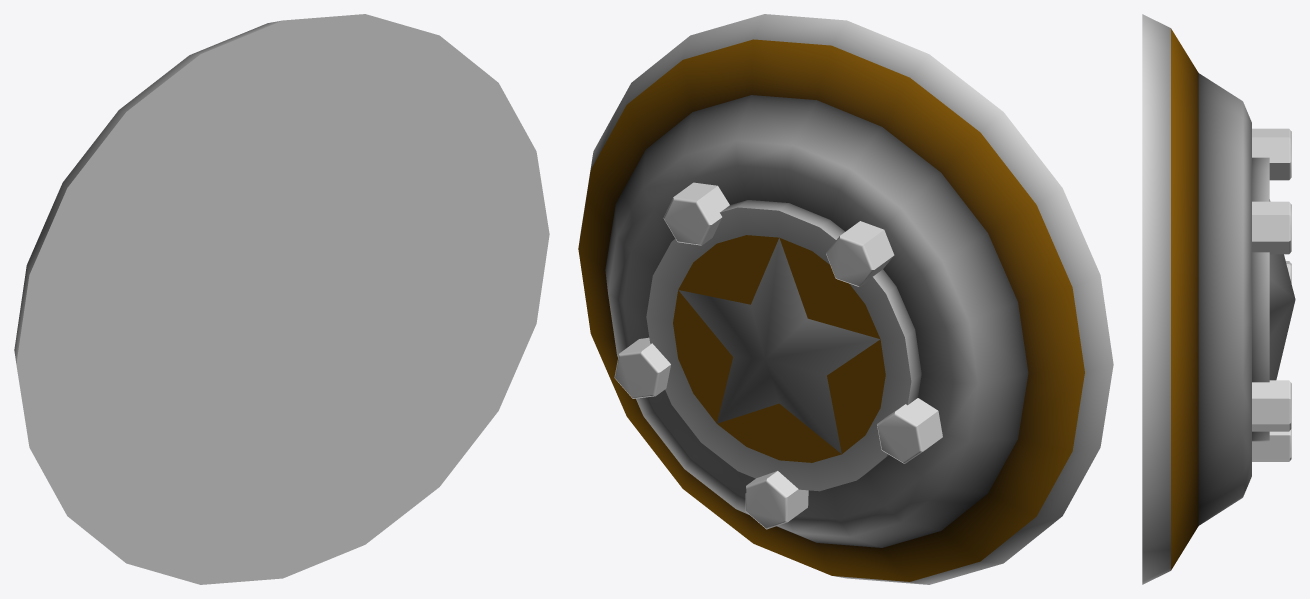
File: obj_dekotora_hubcap02.fbx
The picture shows the model from 3 angles, left to right: view 1: azimuth 30°, elevation 25°; view 2: azimuth 150°, elevation 25°; view 3: azimuth 270°, elevation 25°; orthographic projection. The views are drawn at different scales.
Parts seen in each view (by area): view 1: Cylinder.045; view 2: Cylinder.045, Cylinder.046; view 3: Cylinder.045, Cylinder.046.
Boxes of the visible parts, x1,y1,x2,y2 form: Cylinder.045: (14, 14, 549, 584); Cylinder.045: (578, 14, 1113, 584); Cylinder.046: (614, 182, 942, 529); Cylinder.045: (1142, 14, 1295, 584); Cylinder.046: (1252, 128, 1291, 461).
Bounding box in the file's own units: 3 × 3 × 0.7985.
